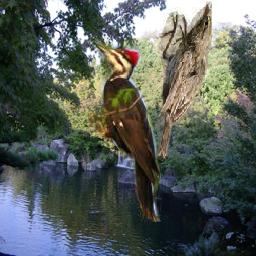Sparrow: (156, 2, 213, 161)
Woodpecker: (89, 38, 162, 223)
